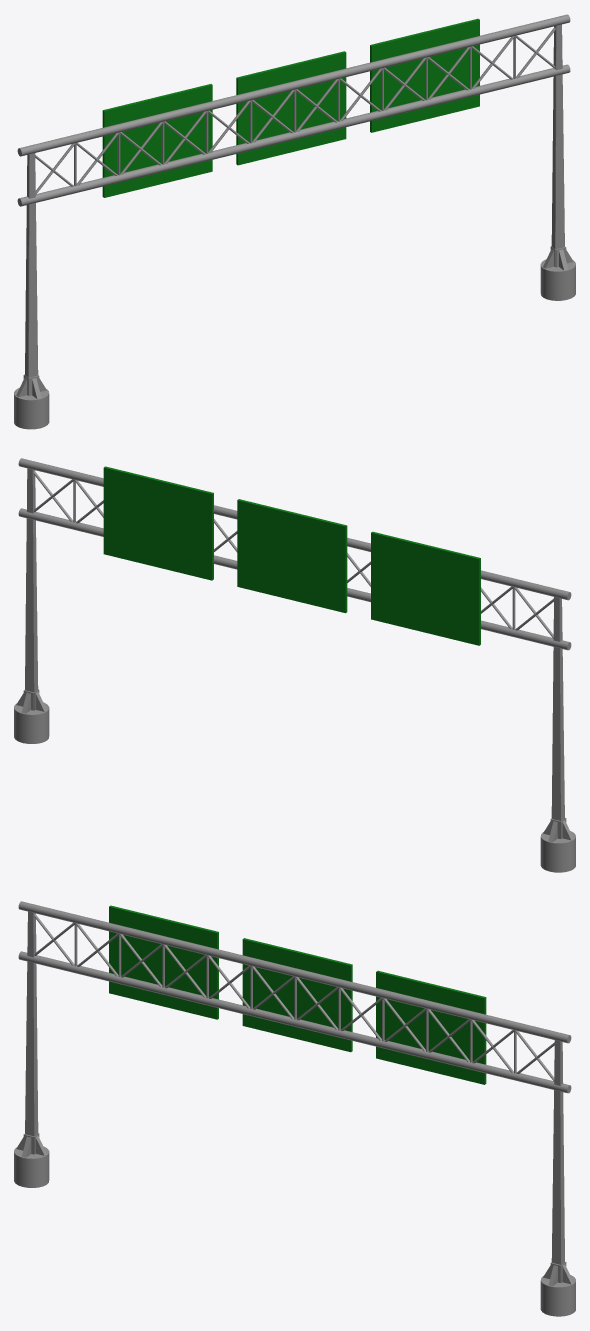
File: Highway_OverheadSign.fbx
3 renders of one model, top to bottom at view 1: azimuth 30°, elevation 25°; view 2: azimuth 150°, elevation 25°; view 3: azimuth 330°, elevation 25°, orthographic.
Parts seen in each view (by area): view 1: HighwaySign_Board002, HighwaySign_Board001, HighwaySign_Board003, HighwaySign_Bar_Up, HighwaySign_Bar_Low, HighwaySign_MainPost_R, HighwaySign_MainPost_L; view 2: HighwaySign_Board002, HighwaySign_Board003, HighwaySign_Board001, HighwaySign_MainPost_R, HighwaySign_MainPost_L, HighwaySign_Bar_Up, HighwaySign_Bar_Low; view 3: HighwaySign_Board003, HighwaySign_Board002, HighwaySign_Board001, HighwaySign_Bar_Up, HighwaySign_Bar_Low, HighwaySign_MainPost_L, HighwaySign_MainPost_R.
Part boxes in pixels (left/top/right/bottom): HighwaySign_Board002: left=236, top=51, right=346, bottom=165; HighwaySign_Board001: left=102, top=84, right=212, bottom=197; HighwaySign_Board003: left=370, top=18, right=479, bottom=132; HighwaySign_Bar_Up: left=17, top=14, right=570, bottom=156; HighwaySign_Bar_Low: left=17, top=64, right=570, bottom=206; HighwaySign_MainPost_R: left=14, top=153, right=49, bottom=429; HighwaySign_MainPost_L: left=540, top=24, right=575, bottom=300; HighwaySign_Board002: left=237, top=499, right=347, bottom=613; HighwaySign_Board003: left=103, top=466, right=213, bottom=580; HighwaySign_Board001: left=371, top=531, right=480, bottom=645; HighwaySign_MainPost_R: left=540, top=597, right=575, bottom=872; HighwaySign_MainPost_L: left=14, top=468, right=49, bottom=743; HighwaySign_Bar_Up: left=18, top=458, right=571, bottom=600; HighwaySign_Bar_Low: left=18, top=508, right=571, bottom=650; HighwaySign_Board003: left=376, top=970, right=486, bottom=1084; HighwaySign_Board002: left=242, top=938, right=352, bottom=1052; HighwaySign_Board001: left=109, top=905, right=218, bottom=1019; HighwaySign_Bar_Up: left=18, top=901, right=571, bottom=1043; HighwaySign_Bar_Low: left=18, top=951, right=571, bottom=1093; HighwaySign_MainPost_L: left=540, top=1040, right=575, bottom=1316; HighwaySign_MainPost_R: left=14, top=911, right=49, bottom=1187.
Bounding box in the file's own units: 1317 × 656 × 70.57.
